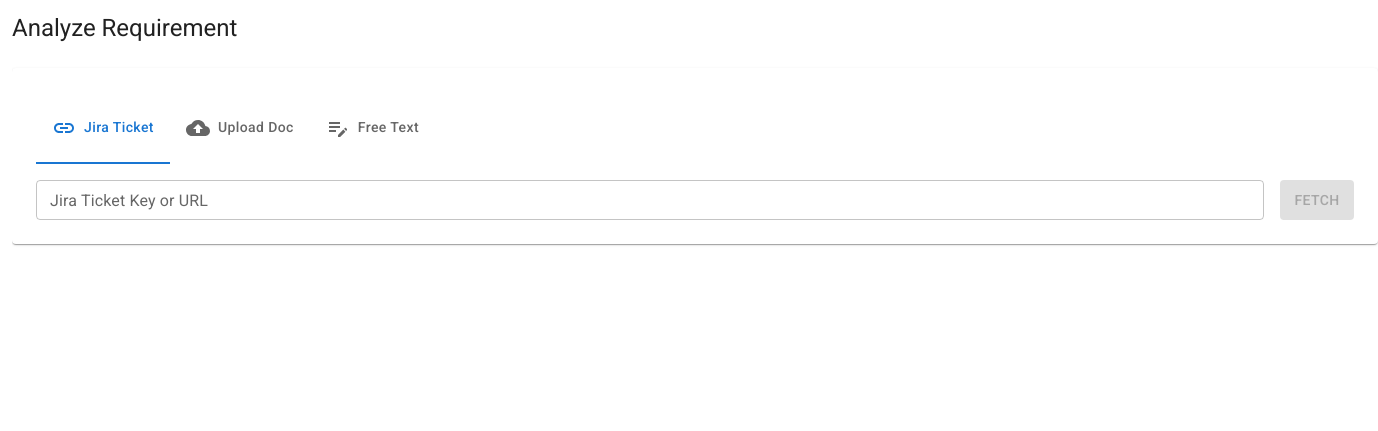
RequirementIntakePage › shows Back button to return to intake from review
Click the tab "Free Text" at (372, 128), box [310,92,435,164]
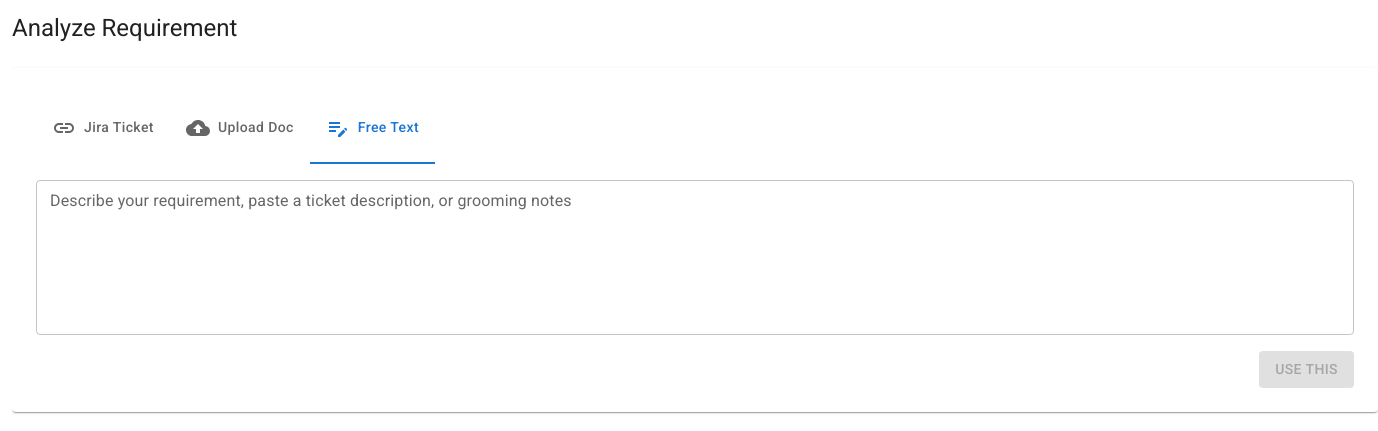
Type "Test" into the text box labelled "Describe your requirement" at (695, 258), box [50,188,1340,326]
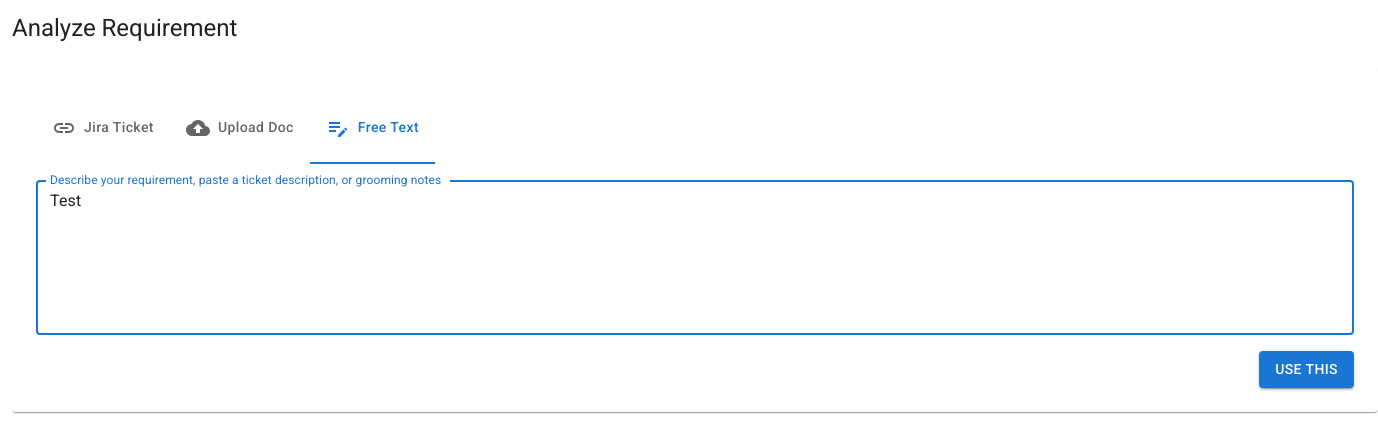
Click the button "Use This" at (1307, 369), box [1259,351,1354,388]
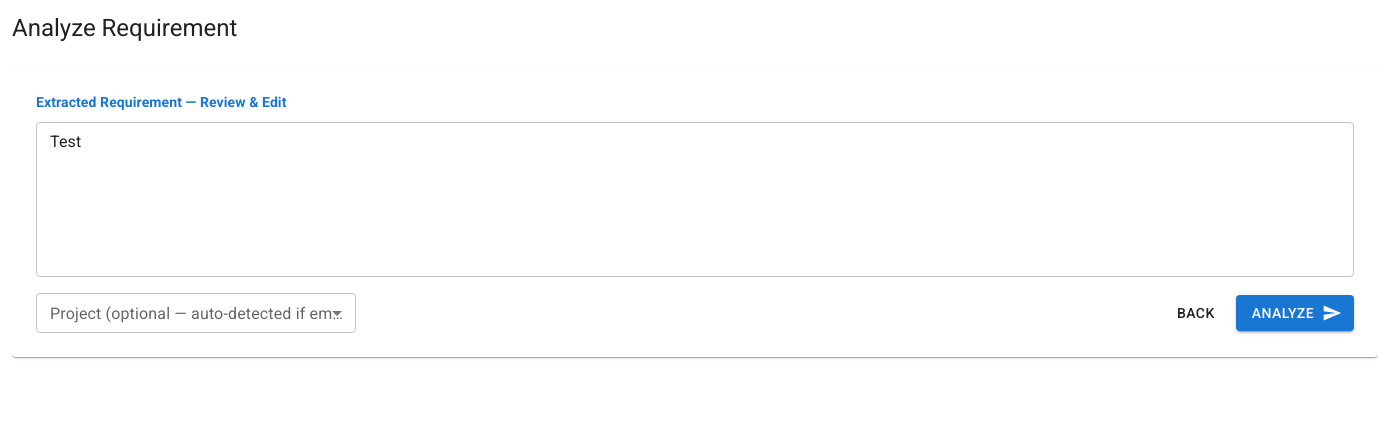
Now the button "Back" is shown
Click the button "Back" at (1196, 313), box [1164,295,1228,331]
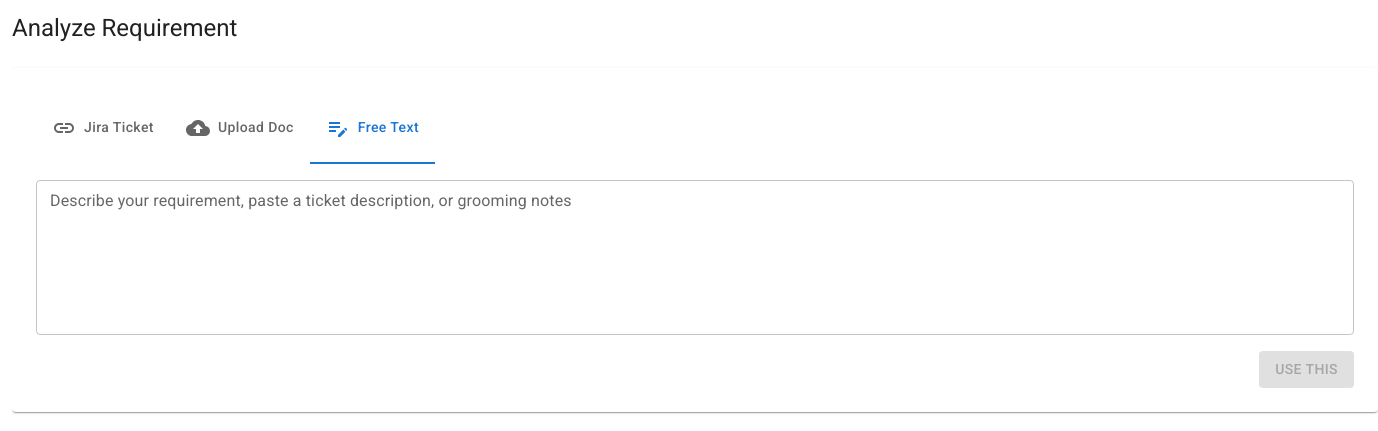
Now the tab "Jira Ticket" is shown, box [36,92,170,164]
